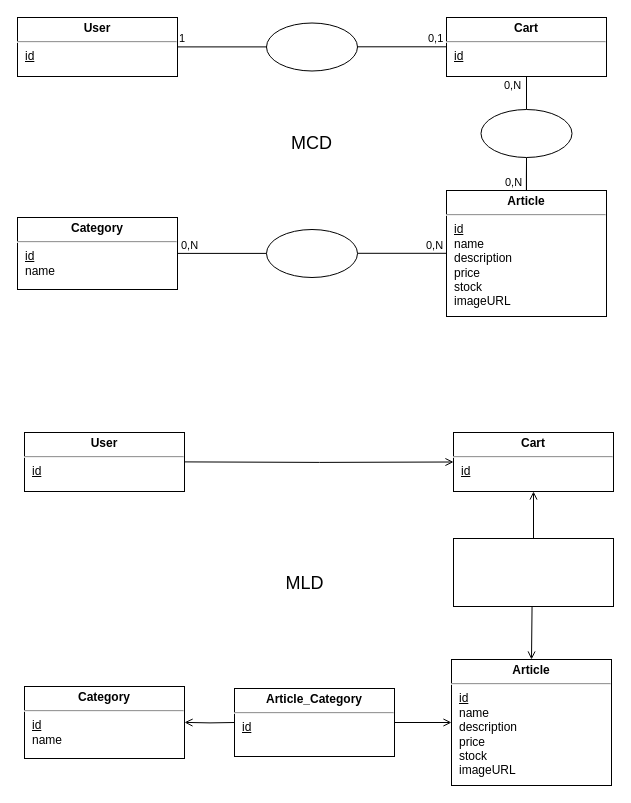
Some shapes in this 631 by 803 pixel diagram are drawn without their labels. The box of each missing label's shape, as (x1, y1, x2, y2) in pixels:
Article_Cart id quantity: (452, 538, 614, 606)
contains: (480, 108, 572, 158)
is in: (266, 228, 358, 278)
owns: (266, 22, 358, 71)
